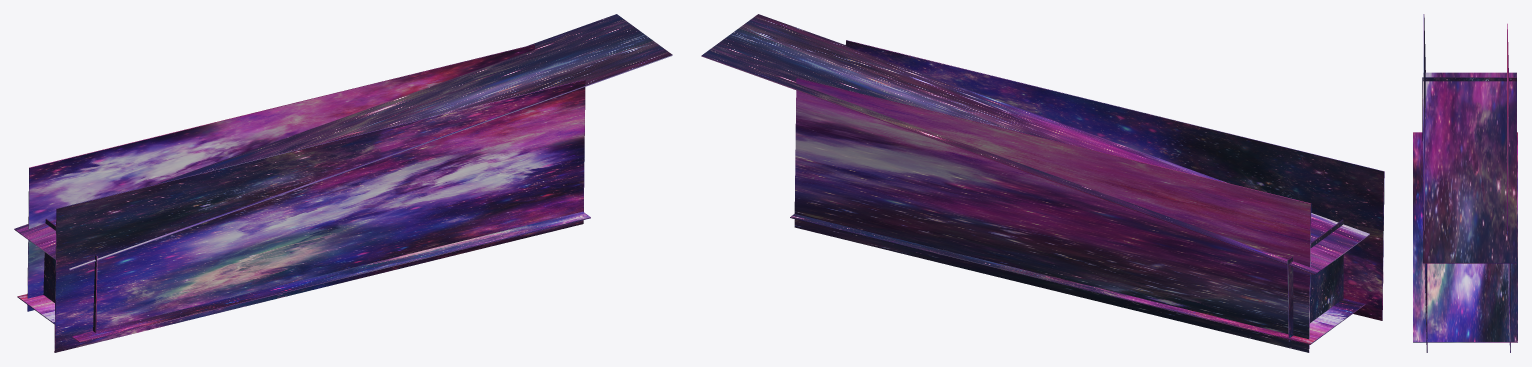
Rendered from tunnel.fbx.
3 renders of one model, left to right at view 1: azimuth 30°, elevation 25°; view 2: azimuth 150°, elevation 25°; view 3: azimuth 270°, elevation 25°, orthographic. The views are drawn at different scales.
Visible parts, largest first — view 1: Cube.002, Cube.001, Cube.004, Cube, Cube.003; view 2: Cube.001, Cube.002, Cube.004, Cube, Cube.003; view 3: Cube.004, Cube, Cube.002, Cube.001, Cube.003.
Boxes of the visible parts, x1,y1,x2,y2 form: Cube.002: [54, 79, 585, 352]; Cube.001: [27, 44, 534, 311]; Cube.004: [14, 14, 672, 270]; Cube: [17, 211, 590, 342]; Cube.003: [43, 218, 97, 332]; Cube.001: [794, 78, 1311, 352]; Cube.002: [845, 40, 1384, 320]; Cube.004: [701, 14, 1369, 274]; Cube: [790, 214, 1365, 344]; Cube.003: [1287, 219, 1343, 341]; Cube.004: [1423, 72, 1516, 263]; Cube: [1413, 132, 1517, 342]; Cube.002: [1423, 14, 1427, 352]; Cube.001: [1507, 23, 1510, 352]; Cube.003: [1422, 77, 1516, 141].
Bounding box in the file's own units: 115 × 26.68 × 20.13.
1 material, 1 textured.
